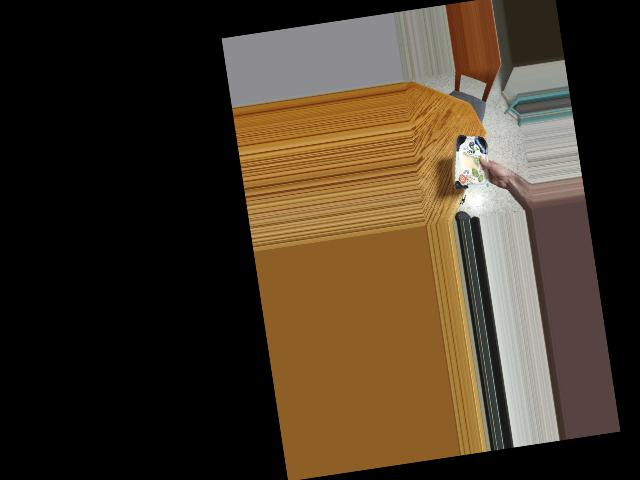cheese: (444, 130, 503, 194)
